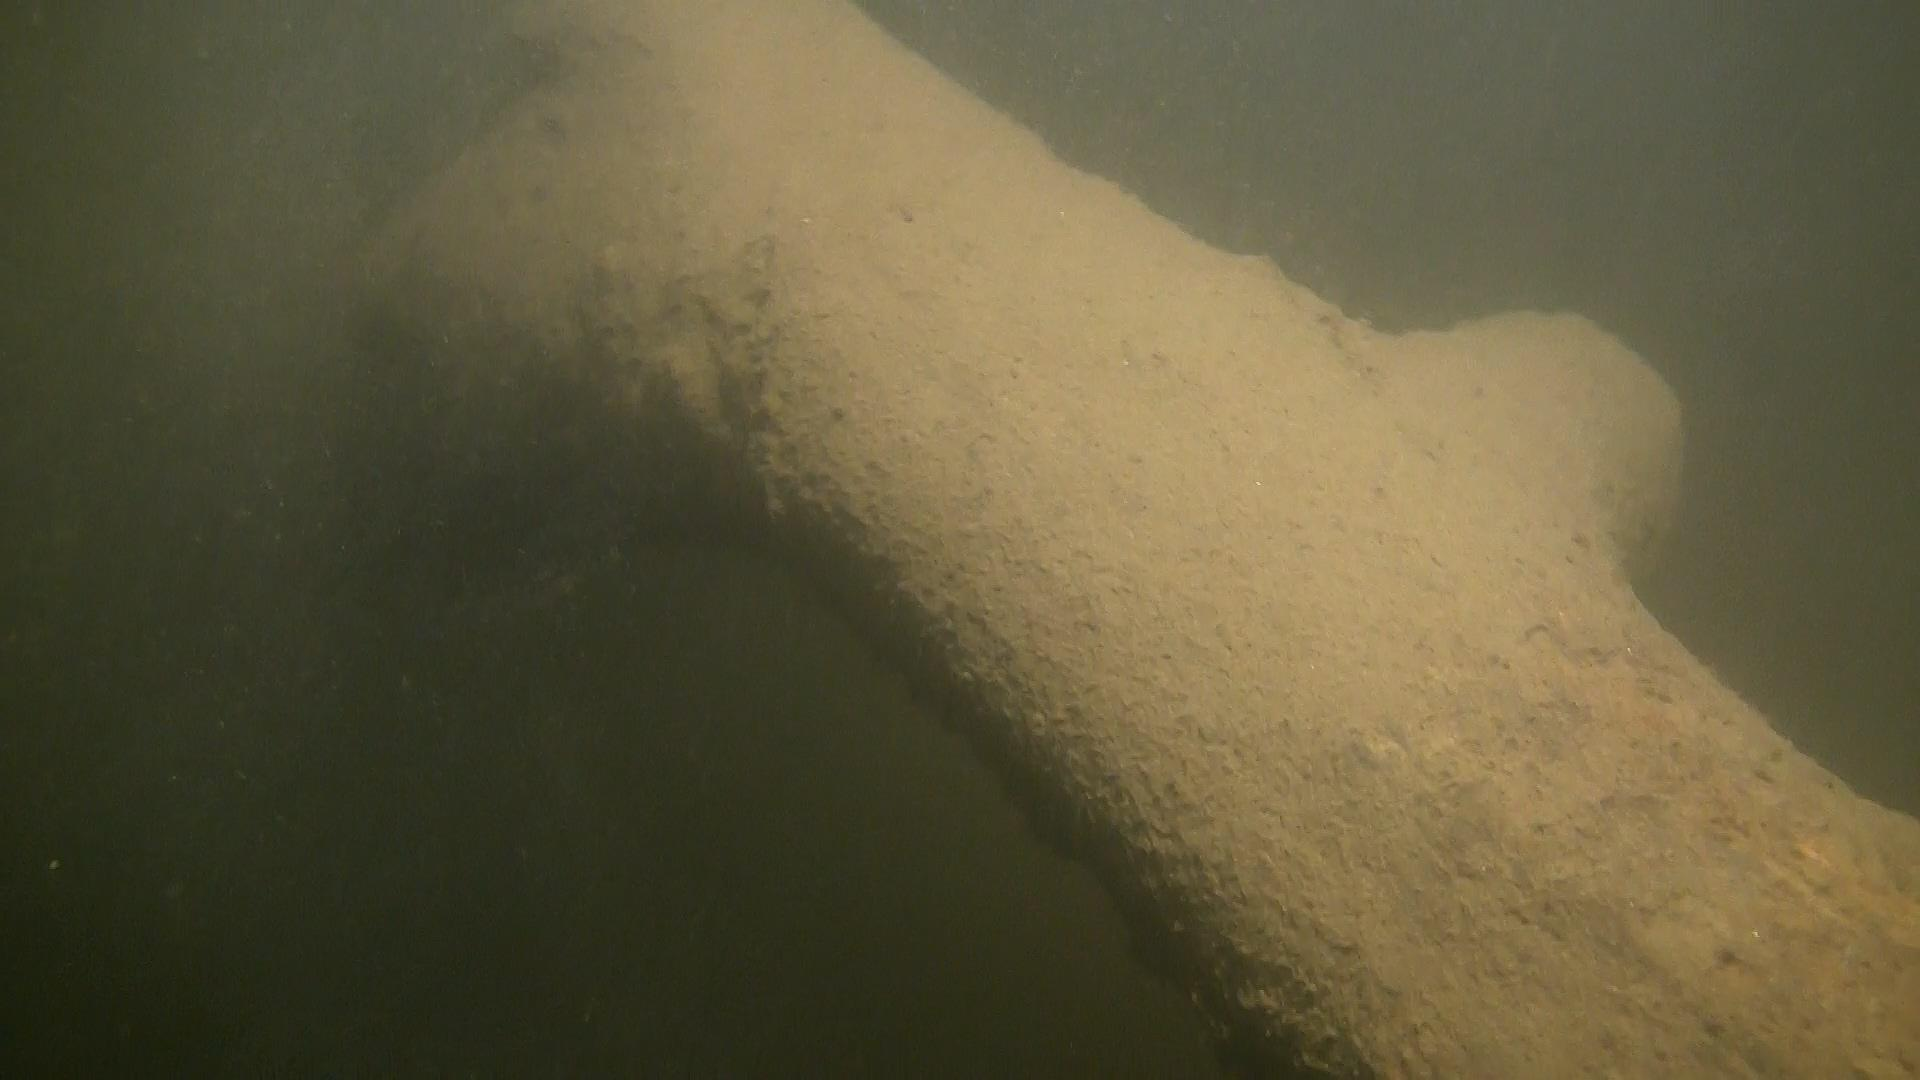wood: (345, 0, 1920, 1080)
